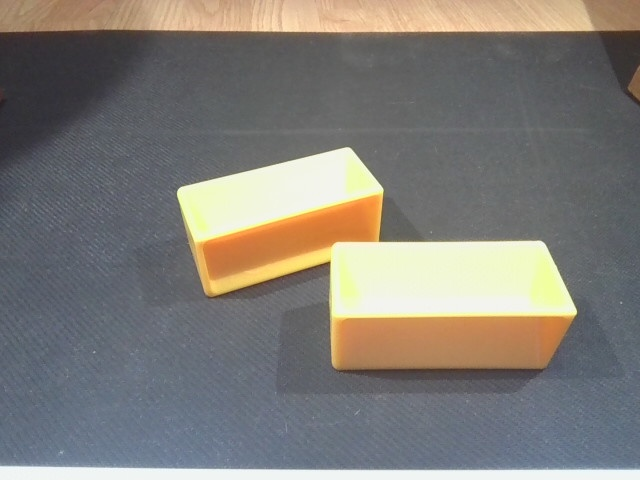YellowSample: (322, 238, 582, 382), (172, 143, 394, 301)
